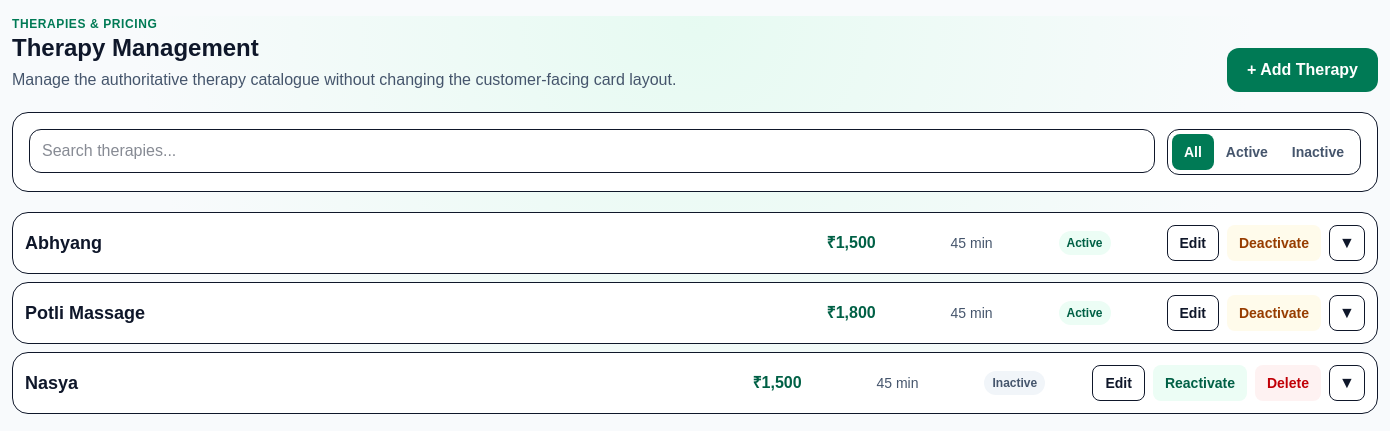
Test: TherapyManagement › supports search and active/inactive filters
This screenshot has width=1390, height=431.
Expected: the text "Abhyang" is shown, [25,233,102,253]
Type "potli" into the field labelled "Search therapies".
click(592, 151); type("potli")  # box [29,129,1155,173]
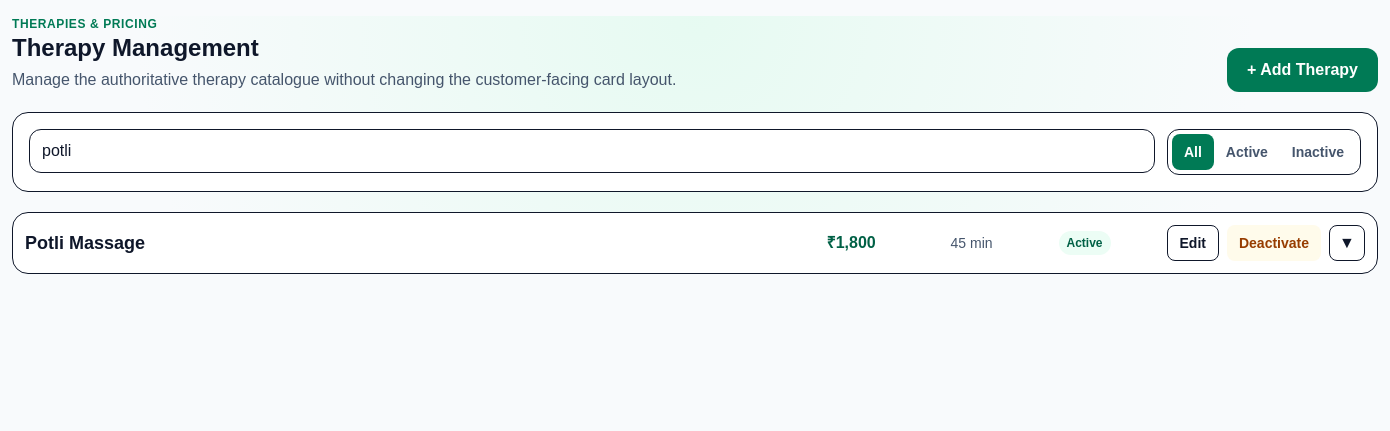
Expected: the text "Potli Massage" is shown, [25,233,145,253]
Now the button "Abhyang" is gone
Clear the field named "Search therapies" at (592, 151), box [29,129,1155,173]
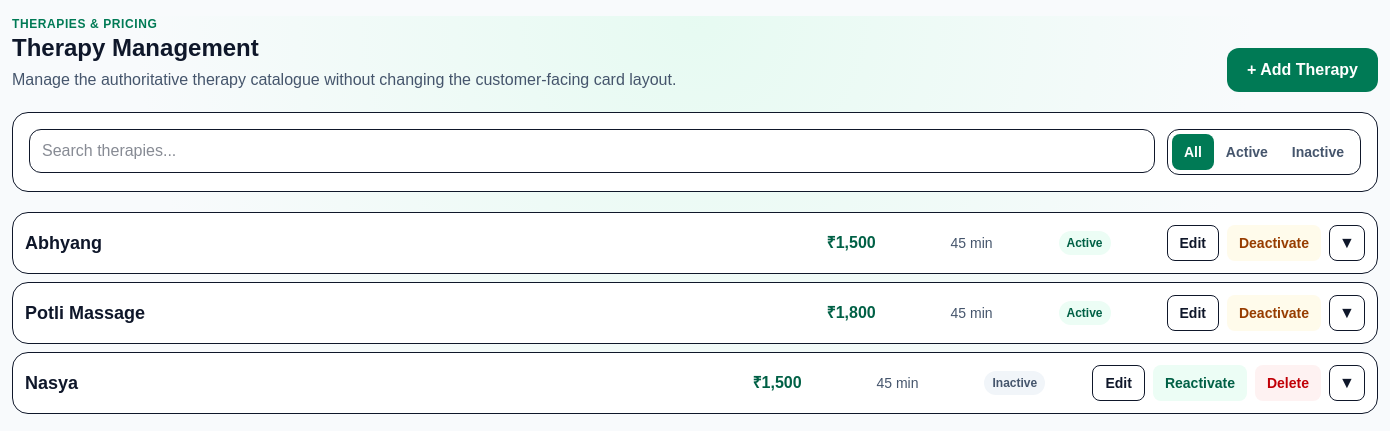
Click the button "Inactive".
click(1318, 152)  # box [1280,134,1356,170]
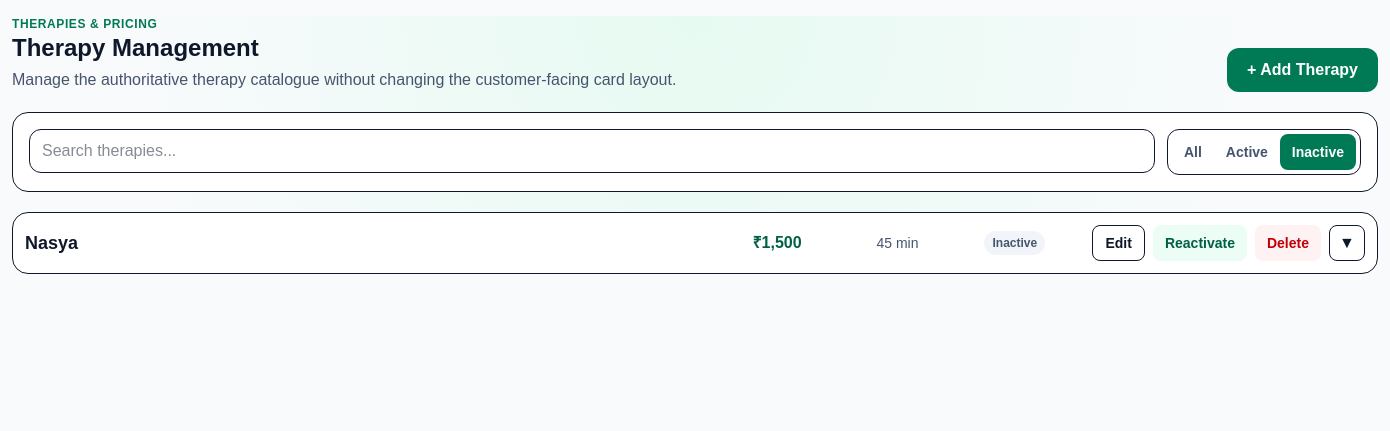
Now the text "Nasya" is shown, box [25,233,78,253]
Now the button "Abhyang" is gone
